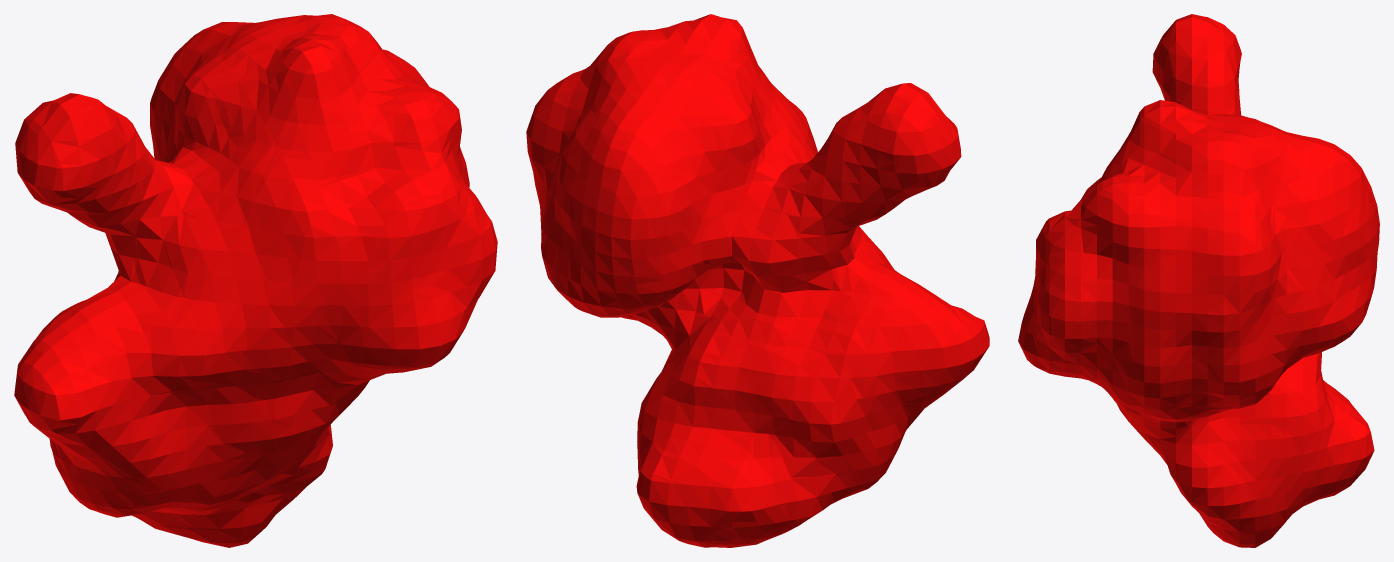
File: tam_coarse.dae
3 views of the same model, side by side, from view 1: azimuth 30°, elevation 25°; view 2: azimuth 150°, elevation 25°; view 3: azimuth 270°, elevation 25° (orthographic). The views are drawn at different scales.
Visible parts, largest first — view 1: tam; view 2: tam; view 3: tam.
Boxes of the visible parts, box(x1,y1,x2,y2) form: tam: box(14, 14, 497, 547); tam: box(526, 14, 989, 547); tam: box(1018, 14, 1379, 547).
Bounding box in the file's own units: 56.89 × 63.81 × 45.86.
